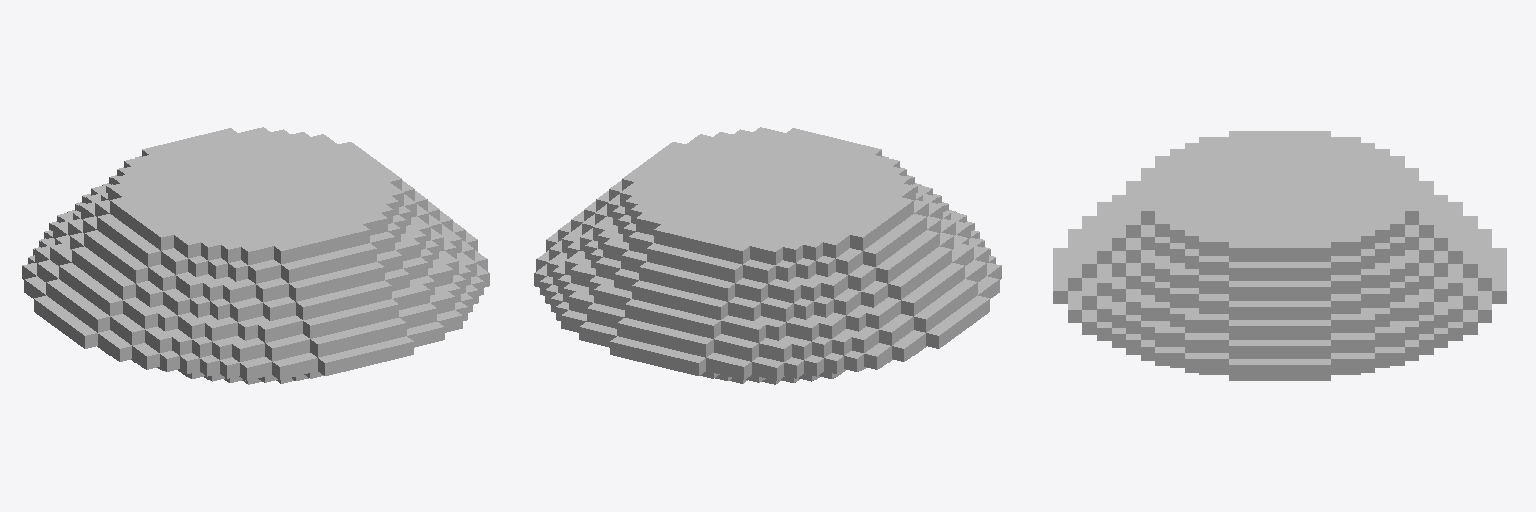
Rendered from Britter.obj.
3 views of the same model, side by side, from view 1: azimuth 30°, elevation 25°; view 2: azimuth 150°, elevation 25°; view 3: azimuth 270°, elevation 25° (orthographic).
Visible parts, largest first — view 1: object 1; view 2: object 1; view 3: object 1.
Part boxes in pixels (left/top/right/bottom): object 1: left=22, top=127, right=489, bottom=384; object 1: left=534, top=127, right=1001, bottom=384; object 1: left=1053, top=131, right=1506, bottom=380.
Size of the model in its own units: 31 by 10 by 31.